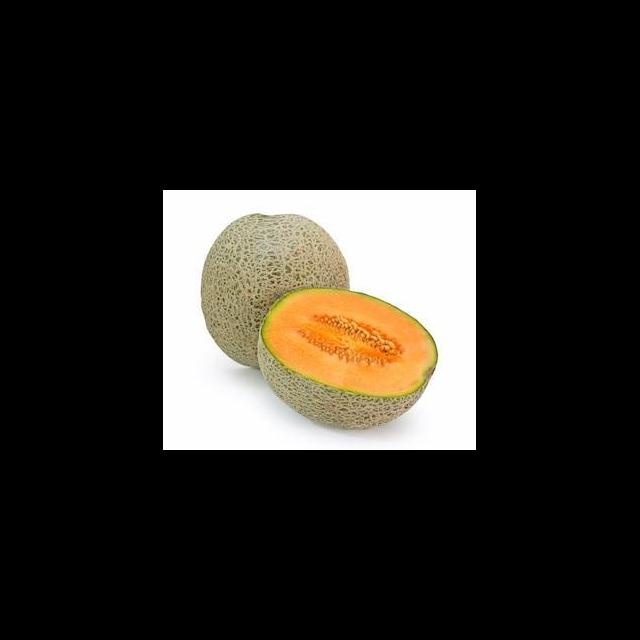Hami Melon: (257, 286, 439, 431), (202, 213, 351, 369)
